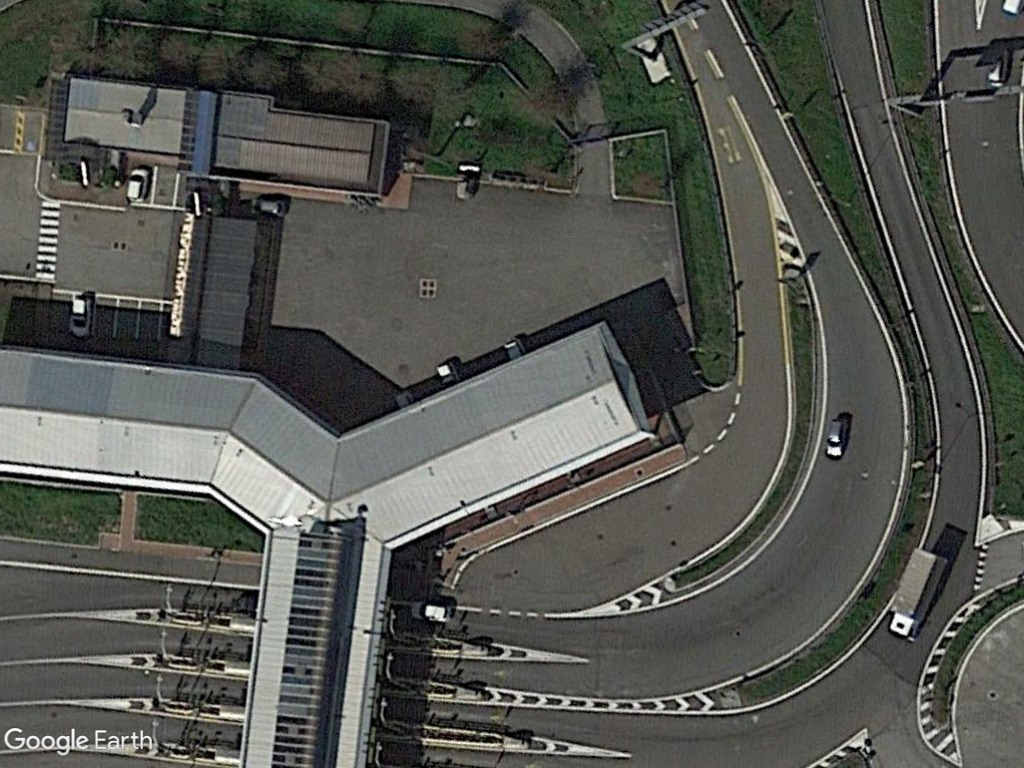car: (823, 415, 853, 461), (407, 600, 456, 627), (123, 163, 153, 206), (67, 292, 94, 338)
truck: (881, 543, 955, 645)
